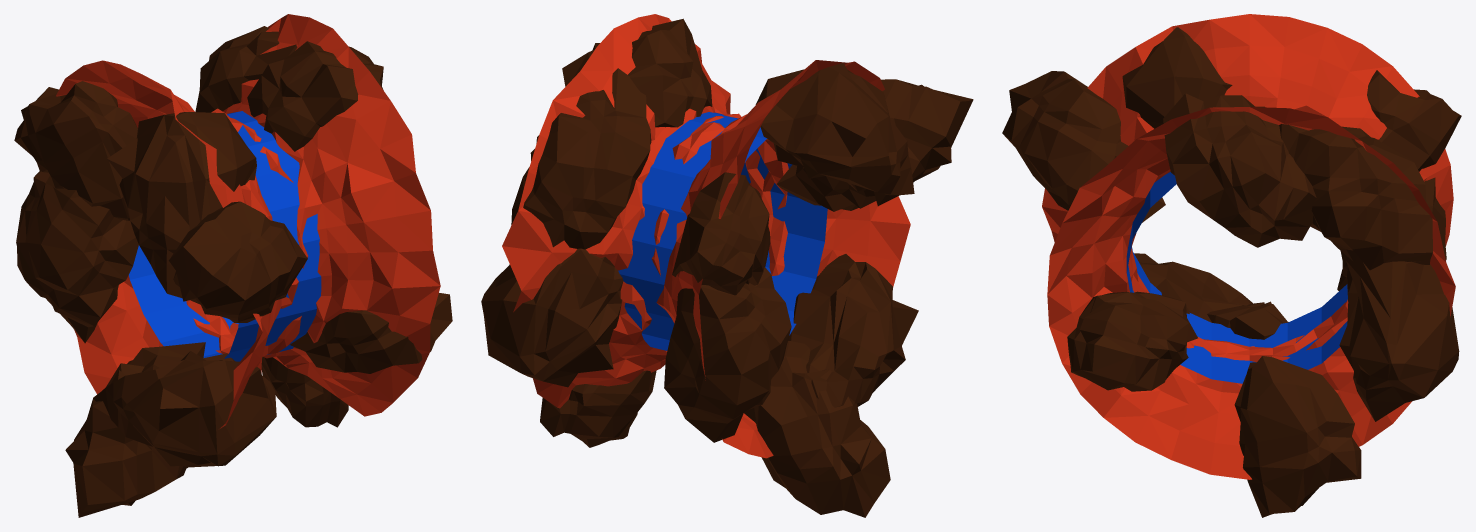
Rendered from stage_id_4.obj.
3 renders of one model, left to right at view 1: azimuth 30°, elevation 25°; view 2: azimuth 150°, elevation 25°; view 3: azimuth 270°, elevation 25°, orthographic.
Visible parts, largest first — view 1: Cylinder; view 2: Cylinder; view 3: Cylinder.
Boxes of the visible parts, box(x1,y1,x2,y2) form: Cylinder: box(14, 14, 452, 517); Cylinder: box(481, 14, 973, 517); Cylinder: box(1002, 14, 1461, 517).
Size of the model in its own units: 215 by 276 by 268.
